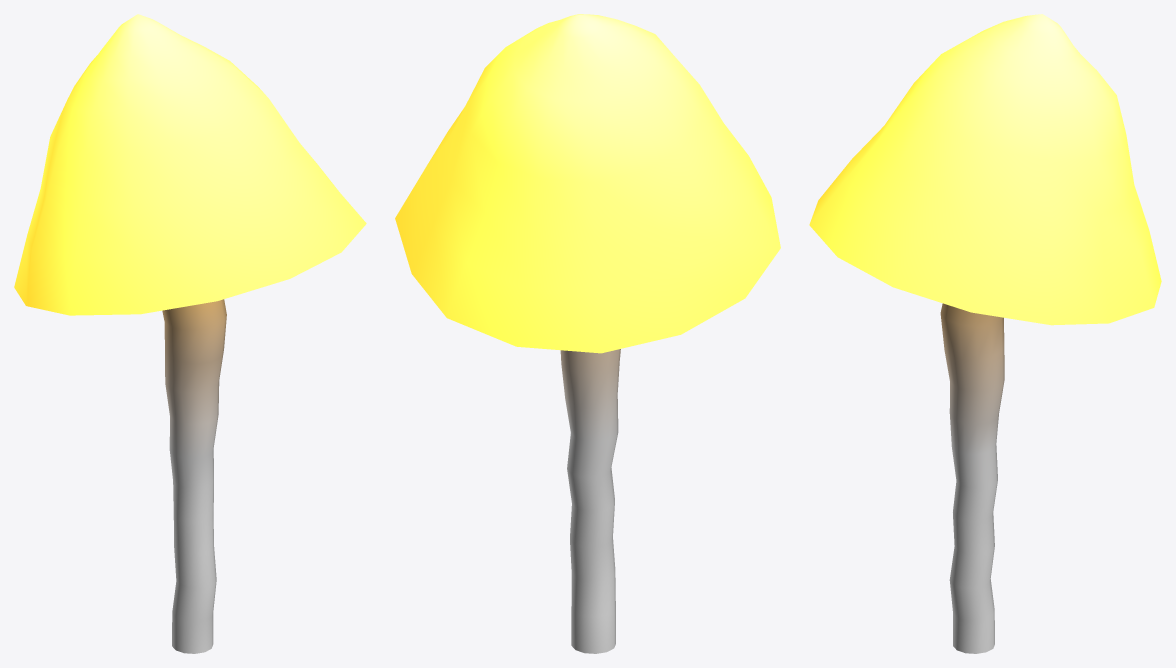
File: mushroom_1.glb
The picture shows the model from 3 angles, left to right: view 1: azimuth 30°, elevation 25°; view 2: azimuth 150°, elevation 25°; view 3: azimuth 270°, elevation 25°; orthographic projection. The views are drawn at different scales.
Parts seen in each view (by area): view 1: geo1; view 2: geo1; view 3: geo1.
Part boxes in pixels (x1,y1,x2,y2): geo1: [14, 14, 366, 653]; geo1: [395, 14, 780, 653]; geo1: [809, 14, 1161, 653].
Size of the model in its own units: 0.1842 by 0.3484 by 0.1792.
